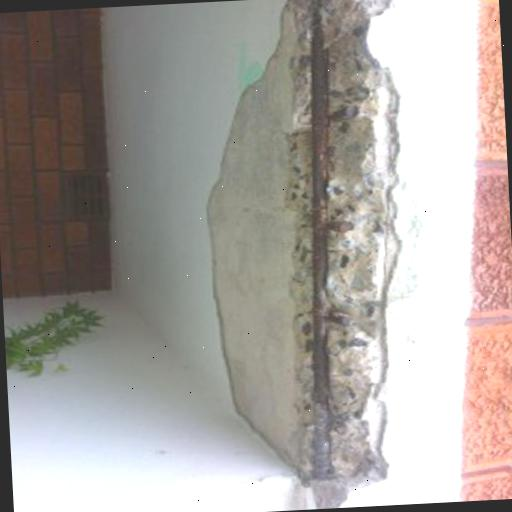spalling: (199, 0, 407, 510)
